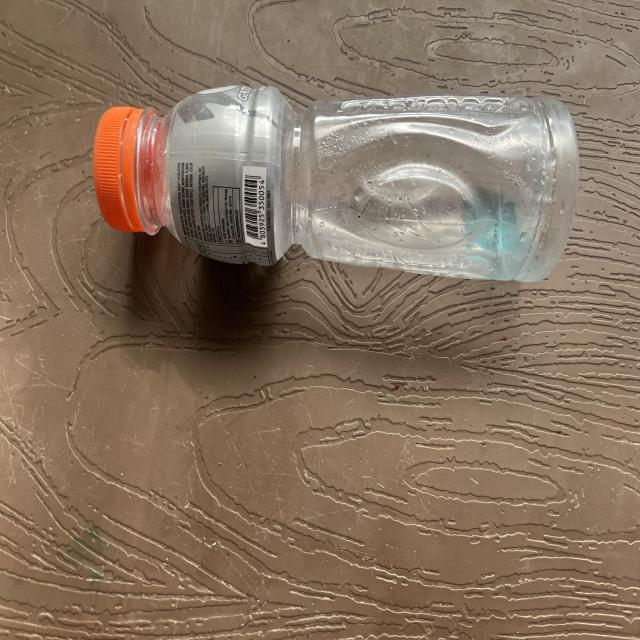REJECT: (93, 83, 531, 313)
